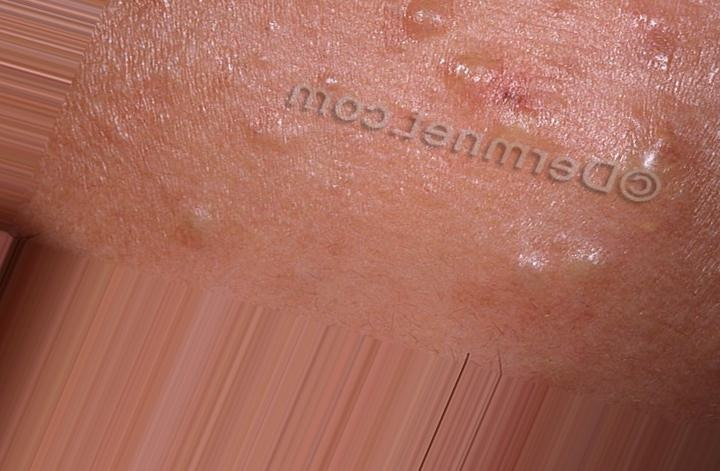Acne: (115, 5, 664, 292)
